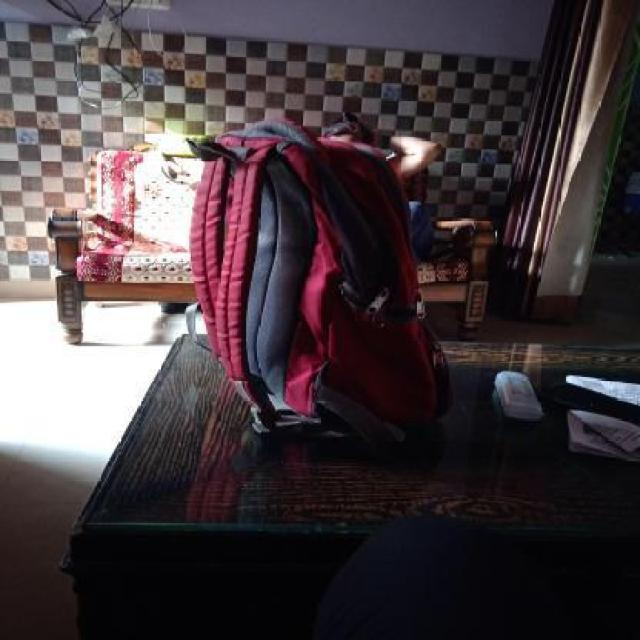backpack: (183, 111, 455, 460)
